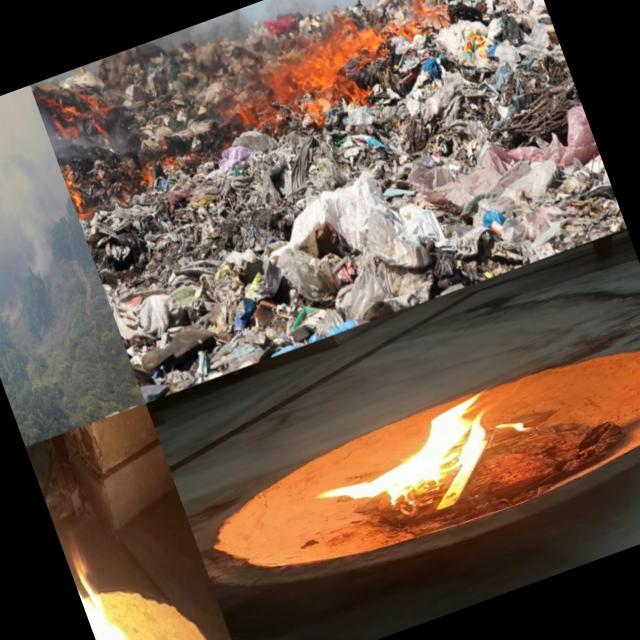fire: (315, 382, 528, 534), (224, 13, 408, 147), (63, 536, 166, 640), (40, 68, 116, 155), (64, 168, 100, 222)
smoke: (84, 0, 348, 113), (0, 85, 100, 321)
